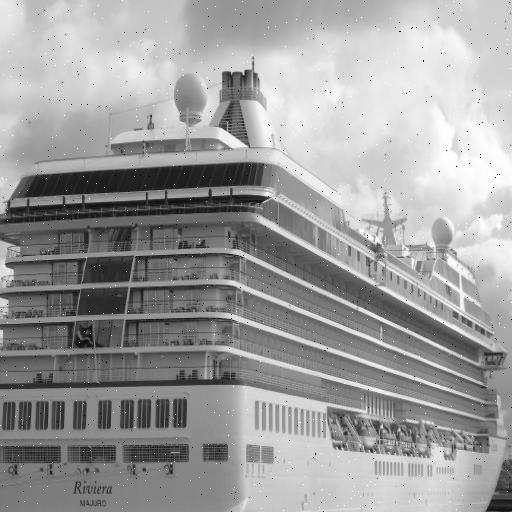cruises: (1, 53, 512, 512)
